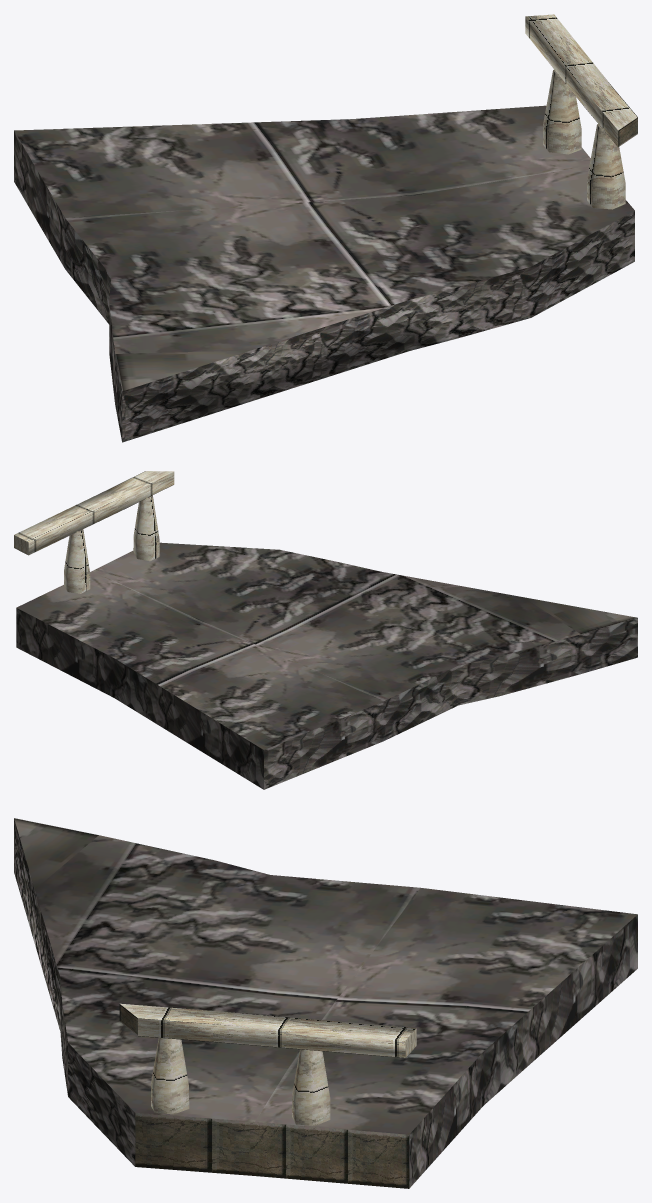
The model's file is INST_SM_WALKWAY_BROKENB_1.fbx.
3 views of the same model, one above another, from view 1: azimuth 30°, elevation 25°; view 2: azimuth 150°, elevation 25°; view 3: azimuth 270°, elevation 25° (orthographic). The views are drawn at different scales.
Visible parts, largest first — view 1: INST_SM_WALKWAY_BROKENB_1; view 2: INST_SM_WALKWAY_BROKENB_1; view 3: INST_SM_WALKWAY_BROKENB_1.
Part boxes in pixels (<box>): INST_SM_WALKWAY_BROKENB_1: <box>14,14,637,442</box>; INST_SM_WALKWAY_BROKENB_1: <box>14,471,637,789</box>; INST_SM_WALKWAY_BROKENB_1: <box>14,818,637,1188</box>.
Size of the model in its own units: 77067 by 16994 by 63703.
Materials: 5 (5 with a texture image).
